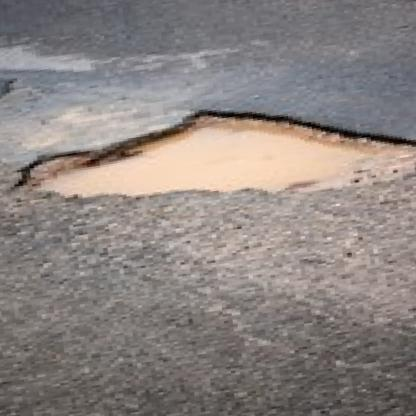pothole: (3, 75, 416, 239)
